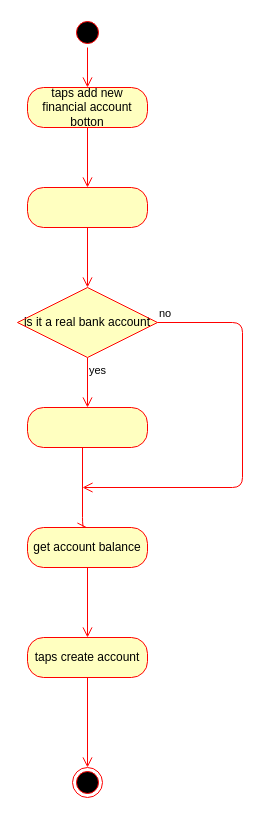
This 270x815 diagram has some shape labels left out. Each missing label, with the box of its shape:
get account number: (26, 406, 148, 448)
get the name of account: (26, 186, 148, 228)
